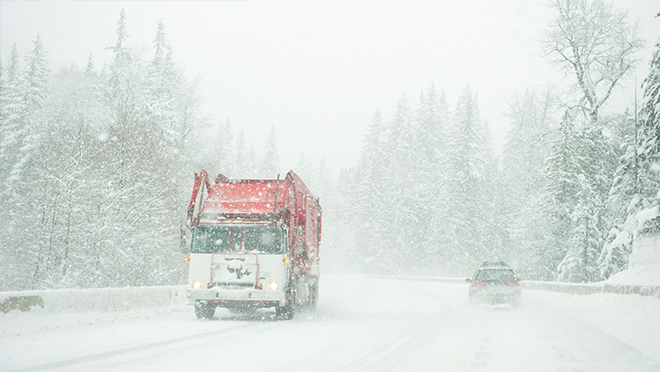car: (464, 265, 524, 308)
truck: (180, 169, 322, 324)
